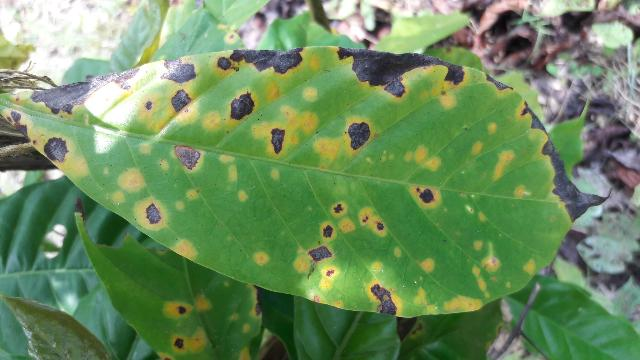rust_level_4: (1, 48, 602, 318)
